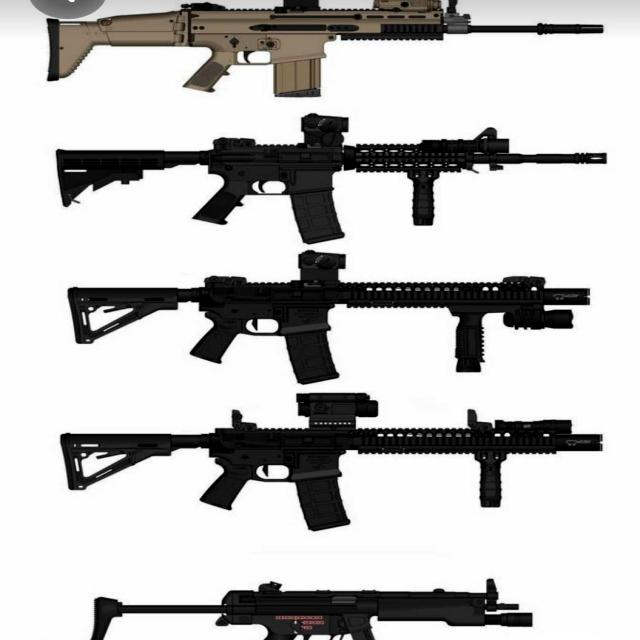m16: (30, 104, 631, 254)
